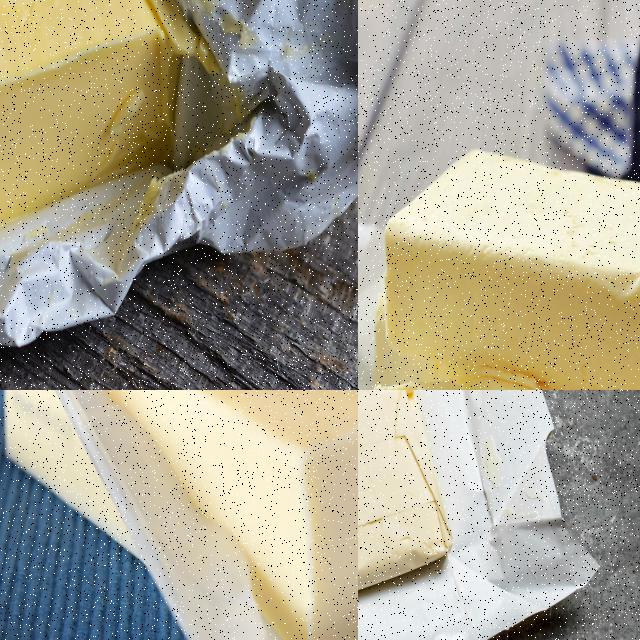Butter: (0, 390, 357, 639), (384, 150, 639, 389), (0, 0, 223, 247), (375, 284, 639, 389), (358, 390, 455, 609)
